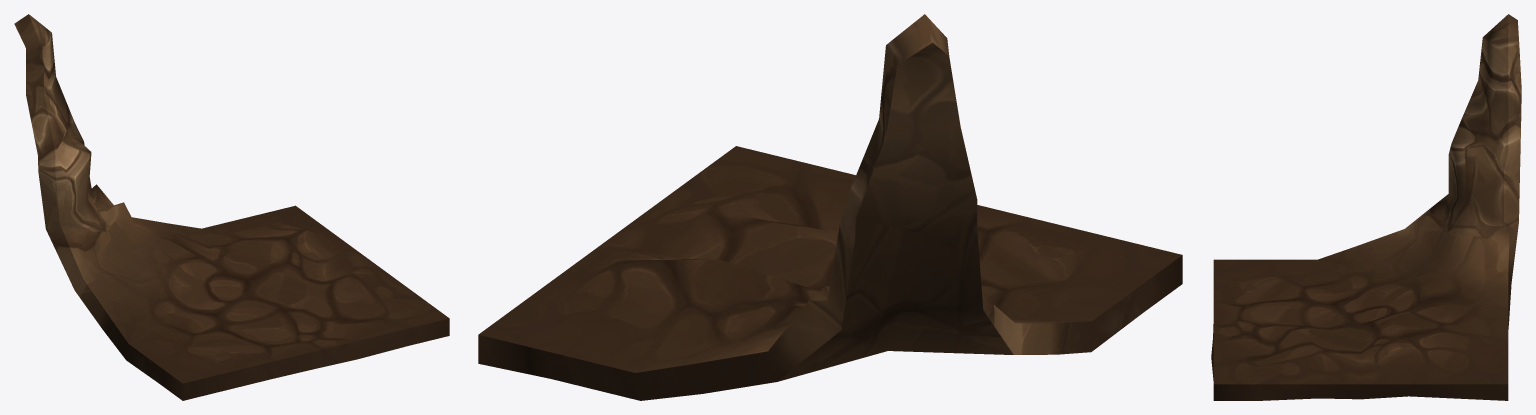
File: Wall_cave_corner_big_02.fbx
The picture shows the model from 3 angles, left to right: view 1: azimuth 30°, elevation 25°; view 2: azimuth 150°, elevation 25°; view 3: azimuth 270°, elevation 25°; orthographic projection. The views are drawn at different scales.
Parts seen in each view (by area): view 1: Wall_cave_corner_big_02; view 2: Wall_cave_corner_big_02; view 3: Wall_cave_corner_big_02.
Part boxes in pixels (bbox=[...]): Wall_cave_corner_big_02: bbox=[14, 14, 449, 400]; Wall_cave_corner_big_02: bbox=[478, 14, 1182, 400]; Wall_cave_corner_big_02: bbox=[1211, 14, 1521, 400].
Size of the model in its own units: 840 by 811 by 846.
